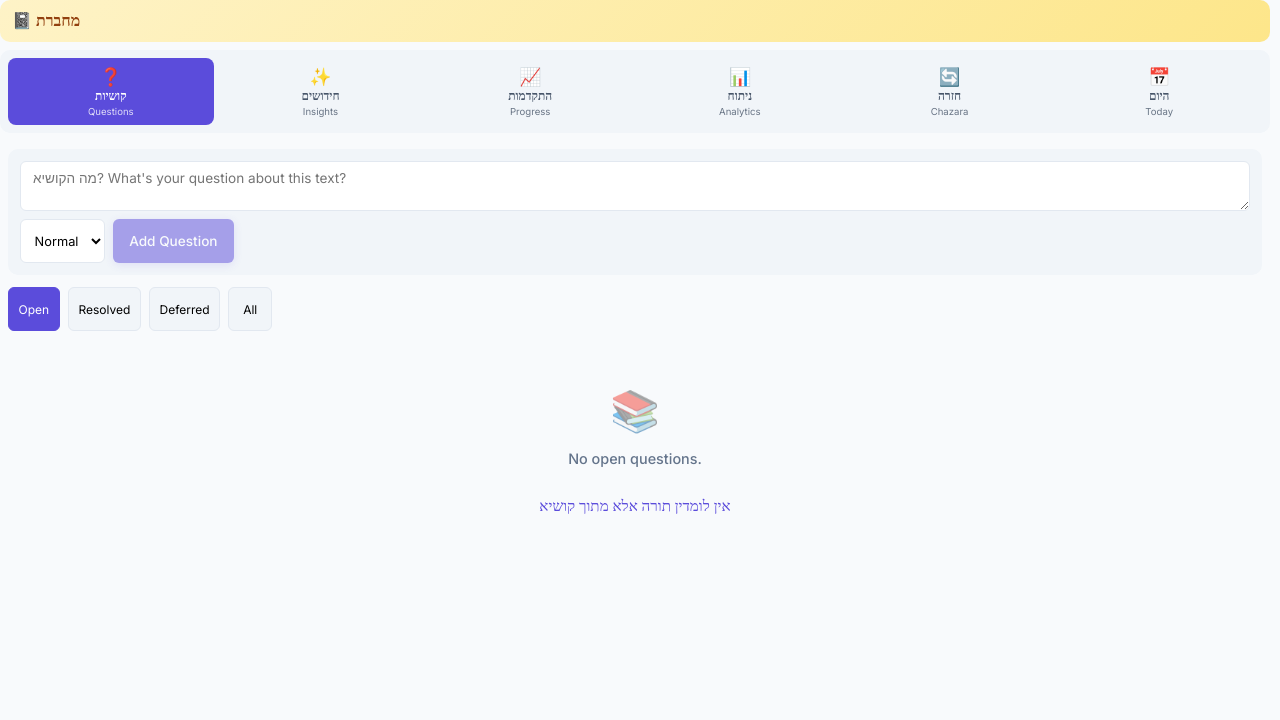
Test: NotebookTab (rendu + navigation des sous-onglets) › Today : rend avec FeatureIndicator et les modes d'étude
The image size is (1280, 720).
What coordinates should you click on to do the following:
click the button "📅 היום Today"
I would click on:
 (1159, 92)
Its box is 1056,58 -> 1262,125.
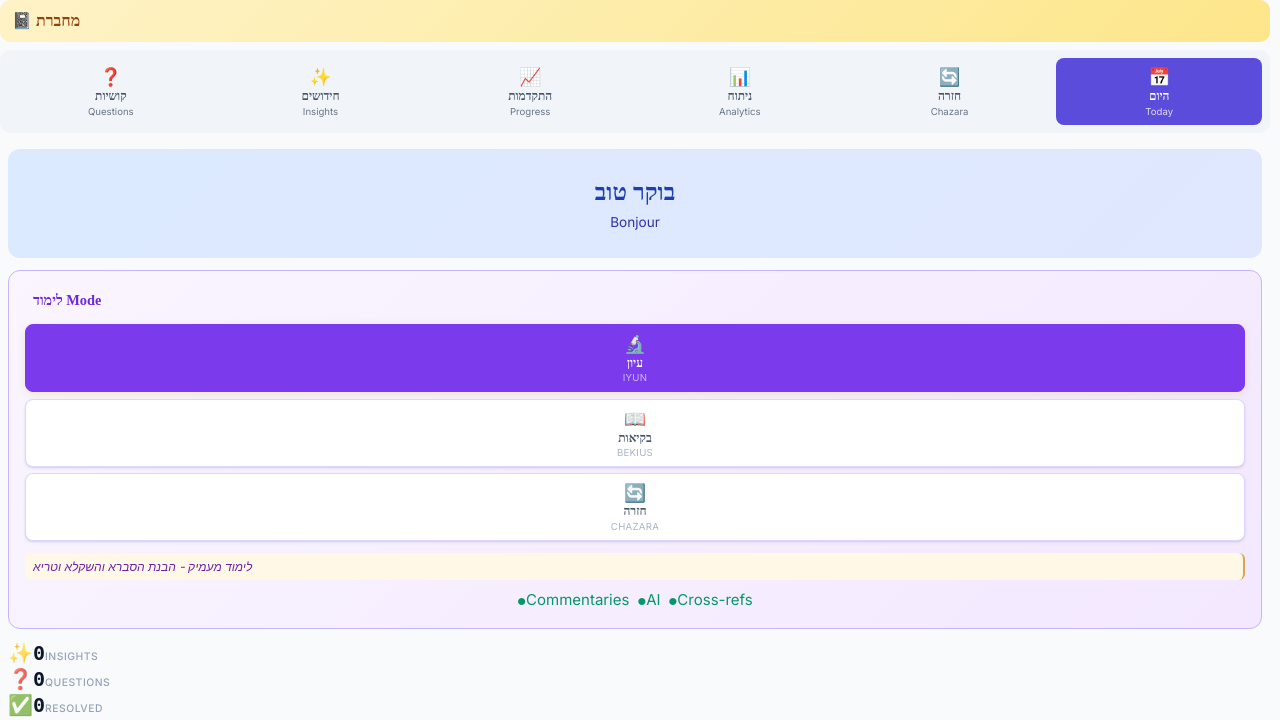
Now the text "Commentaries" is shown, box 526,590 -> 629,609
Now the text "Cross-refs" is shown, box 677,590 -> 753,609
